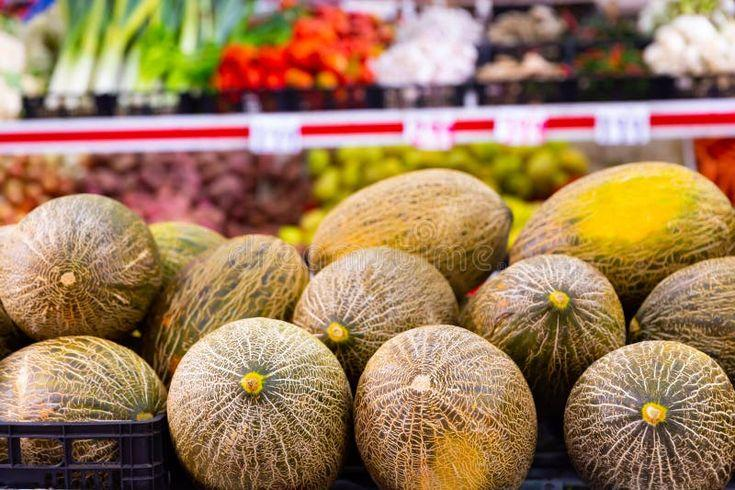melon: (507, 159, 734, 306), (289, 160, 523, 302), (165, 316, 353, 489), (4, 163, 169, 357), (352, 323, 537, 489), (562, 339, 734, 489), (0, 326, 170, 463), (169, 208, 302, 345), (308, 228, 458, 348)
